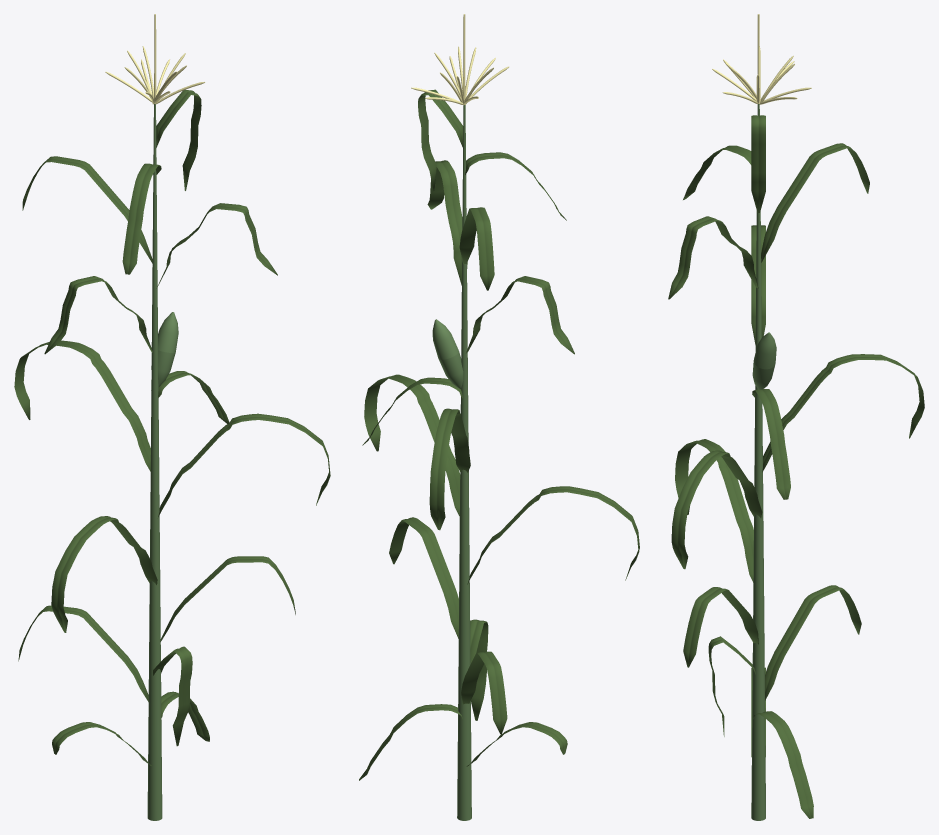
File: Corn.FBX
3 views of the same model, side by side, from view 1: azimuth 30°, elevation 25°; view 2: azimuth 150°, elevation 25°; view 3: azimuth 270°, elevation 25° (orthographic).
Parts seen in each view (by area): view 1: Stalk_001, Leaf2_001, Leaf2_002, Leaf1_001, Leaf2_003, Leaf3_002, Pollen, Leaf3_001, Leaf4_002, Leaf5_001, Leaf5_002, Leaf5_003 (+5 smaller); view 2: Stalk_001, Leaf2_001, Leaf2_003, Leaf5_003, Leaf4_001, Leaf5_002, Leaf5_001, Pollen, Leaf3_002, Leaf2_002, Leaf4_002, Leaf3_001 (+5 smaller); view 3: Stalk_001, Leaf2_003, Leaf2_002, Leaf5_002, Leaf5_001, Leaf5_003, Leaf1_007, Leaf2_001, Leaf4_001, Leaf1_005, Leaf3_002, Pollen (+4 smaller).
Boxes of the visible parts, x1=… form: Stalk_001: x1=147, y1=104, x2=162, y2=820; Leaf2_001: x1=14, y1=340, x2=150, y2=471; Leaf2_002: x1=51, y1=516, x2=157, y2=632; Leaf1_001: x1=122, y1=163, x2=161, y2=274; Leaf2_003: x1=158, y1=413, x2=330, y2=517; Leaf3_002: x1=155, y1=90, x2=201, y2=190; Pollen: x1=105, y1=46, x2=205, y2=104; Leaf3_001: x1=153, y1=646, x2=192, y2=746; Leaf4_002: x1=44, y1=276, x2=153, y2=354; Leaf5_001: x1=22, y1=156, x2=152, y2=263; Leaf5_002: x1=18, y1=605, x2=148, y2=702; Leaf5_003: x1=160, y1=556, x2=295, y2=642; Stalk_001: x1=457, y1=105, x2=471, y2=820; Leaf2_001: x1=429, y1=408, x2=470, y2=530; Leaf2_003: x1=364, y1=374, x2=460, y2=516; Leaf5_003: x1=389, y1=517, x2=458, y2=638; Leaf4_001: x1=427, y1=160, x2=467, y2=285; Leaf5_002: x1=461, y1=651, x2=507, y2=734; Leaf5_001: x1=459, y1=207, x2=494, y2=290; Pollen: x1=411, y1=46, x2=509, y2=105; Leaf3_002: x1=418, y1=89, x2=463, y2=191; Leaf2_002: x1=467, y1=486, x2=639, y2=584; Leaf4_002: x1=466, y1=276, x2=574, y2=354; Leaf3_001: x1=470, y1=619, x2=488, y2=720; Stalk_001: x1=751, y1=104, x2=765, y2=820; Leaf2_003: x1=671, y1=450, x2=762, y2=569; Leaf2_002: x1=675, y1=439, x2=753, y2=582; Leaf5_002: x1=765, y1=585, x2=861, y2=700; Leaf5_001: x1=761, y1=143, x2=869, y2=262; Leaf5_003: x1=683, y1=587, x2=758, y2=667; Leaf1_007: x1=752, y1=389, x2=790, y2=499; Leaf2_001: x1=762, y1=354, x2=924, y2=472; Leaf4_001: x1=668, y1=216, x2=758, y2=299; Leaf1_005: x1=753, y1=711, x2=813, y2=818; Leaf3_002: x1=751, y1=115, x2=765, y2=212; Pollen: x1=712, y1=46, x2=811, y2=104.
Bounding box in the file's own units: 0.7678 × 2.13 × 0.6177.
